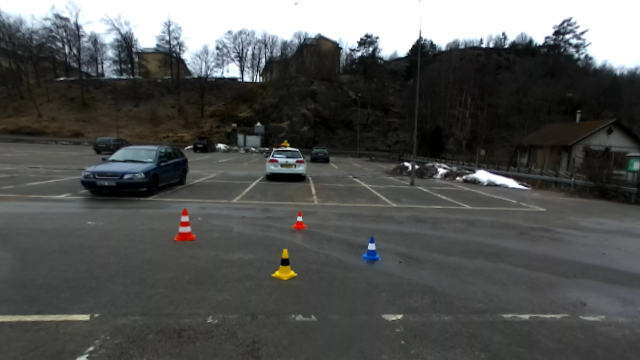blue: (359, 234, 381, 263)
orange: (290, 209, 307, 230)
orange2: (172, 207, 197, 243)
yellow: (269, 246, 299, 284)
